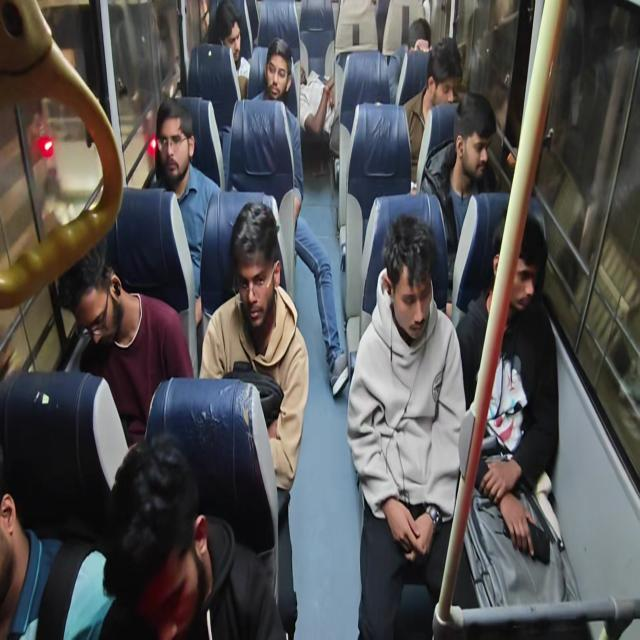person: (104, 441, 218, 640), (57, 231, 123, 354), (385, 218, 444, 351), (232, 202, 282, 334), (494, 211, 550, 314), (151, 91, 202, 192), (0, 447, 31, 596), (454, 81, 497, 183), (429, 42, 464, 102), (211, 1, 245, 62), (264, 38, 294, 98), (400, 16, 438, 58)
